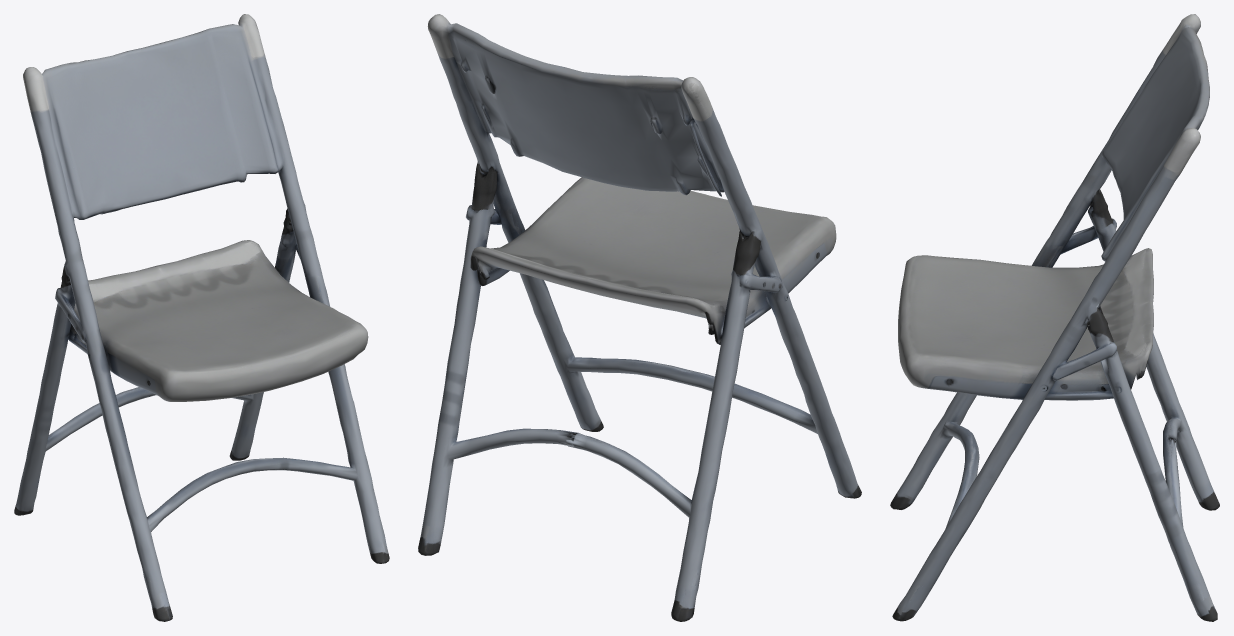
Rendered from Chair_Maxchair_Shark_0320031708_texture.glb.
3 renders of one model, left to right at view 1: azimuth 30°, elevation 25°; view 2: azimuth 150°, elevation 25°; view 3: azimuth 270°, elevation 25°, orthographic. The views are drawn at different scales.
Parts seen in each view (by area): view 1: Mesh_0.001; view 2: Mesh_0.001; view 3: Mesh_0.001.
Part boxes in pixels (x1,y1,x2,y2): Mesh_0.001: (14,14,389,621); Mesh_0.001: (418,14,861,621); Mesh_0.001: (890,14,1219,621).
Bounding box in the file's own units: 0.5088 × 0.9144 × 0.5539.
1 material, 1 textured.
